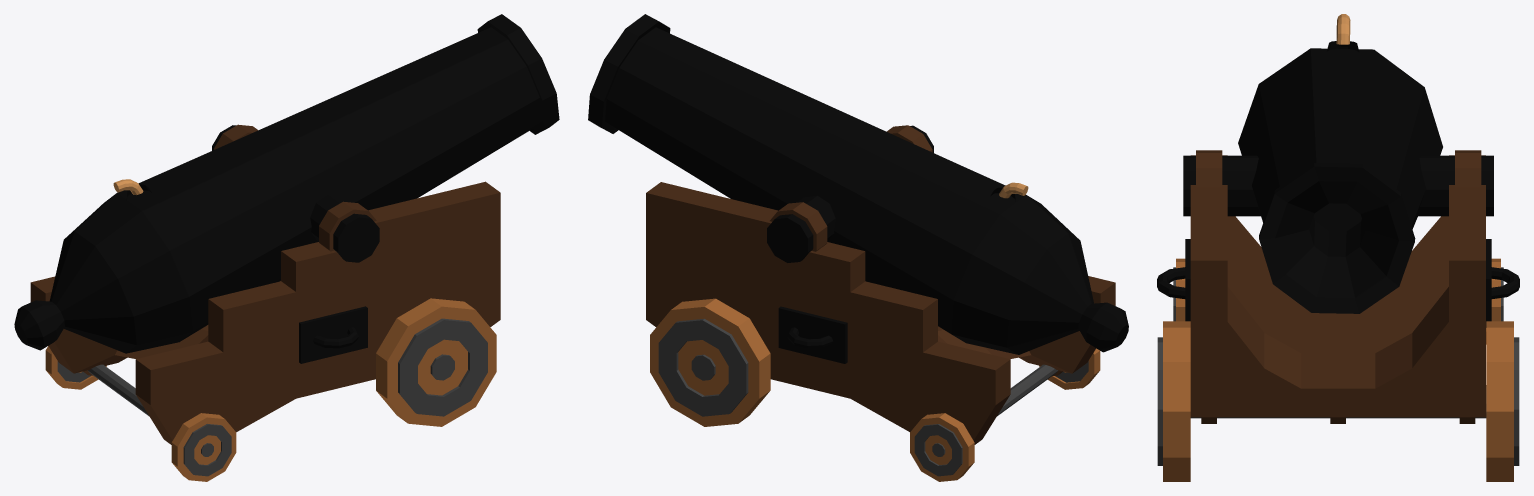
File: Cannon.obj
The picture shows the model from 3 angles, left to right: view 1: azimuth 30°, elevation 25°; view 2: azimuth 150°, elevation 25°; view 3: azimuth 270°, elevation 25°; orthographic projection. The views are drawn at different scales.
Visible parts, largest first — view 1: Cube; view 2: Cube; view 3: Cube.
Part boxes in pixels (<box>): Cube: <box>14,14,559,481</box>; Cube: <box>588,14,1128,481</box>; Cube: <box>1157,14,1519,481</box>.
Size of the model in its own units: 4.77 by 2.84 by 2.35.
